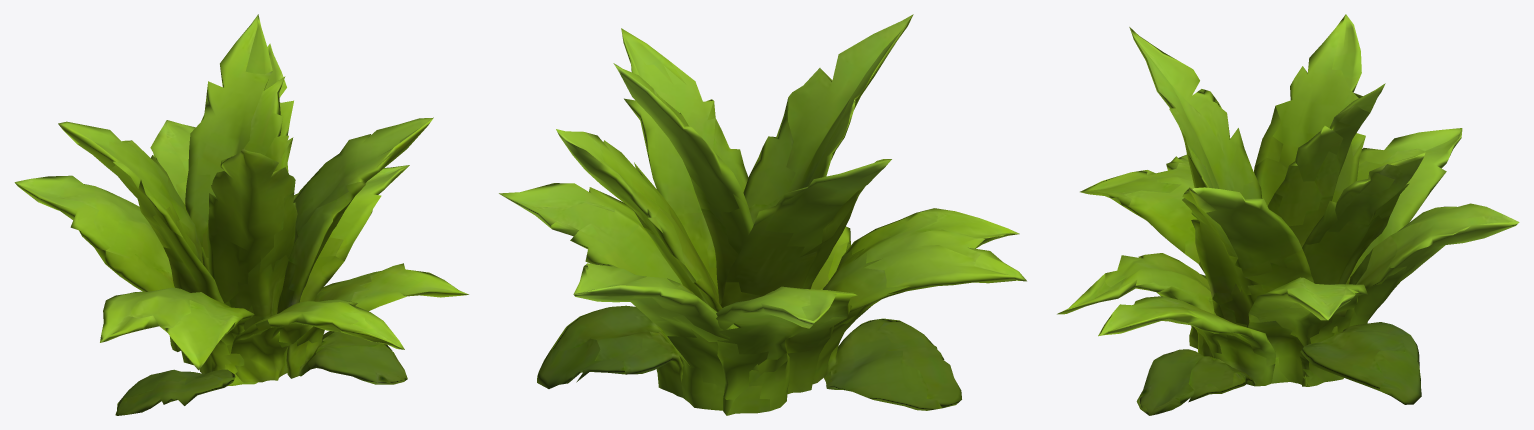
The picture shows the model from 3 angles, left to right: view 1: azimuth 30°, elevation 25°; view 2: azimuth 150°, elevation 25°; view 3: azimuth 270°, elevation 25°; orthographic projection. The views are drawn at different scales.
Parts seen in each view (by area): view 1: mesh_node; view 2: mesh_node; view 3: mesh_node.
Boxes of the visible parts, x1,y1,x2,y2 form: mesh_node: (14,14,468,415); mesh_node: (499,14,1026,415); mesh_node: (1057,14,1519,415).
Bounding box in the file's own units: 0.9922 × 0.7324 × 0.9805.
Materials: 1 (1 with a texture image).
